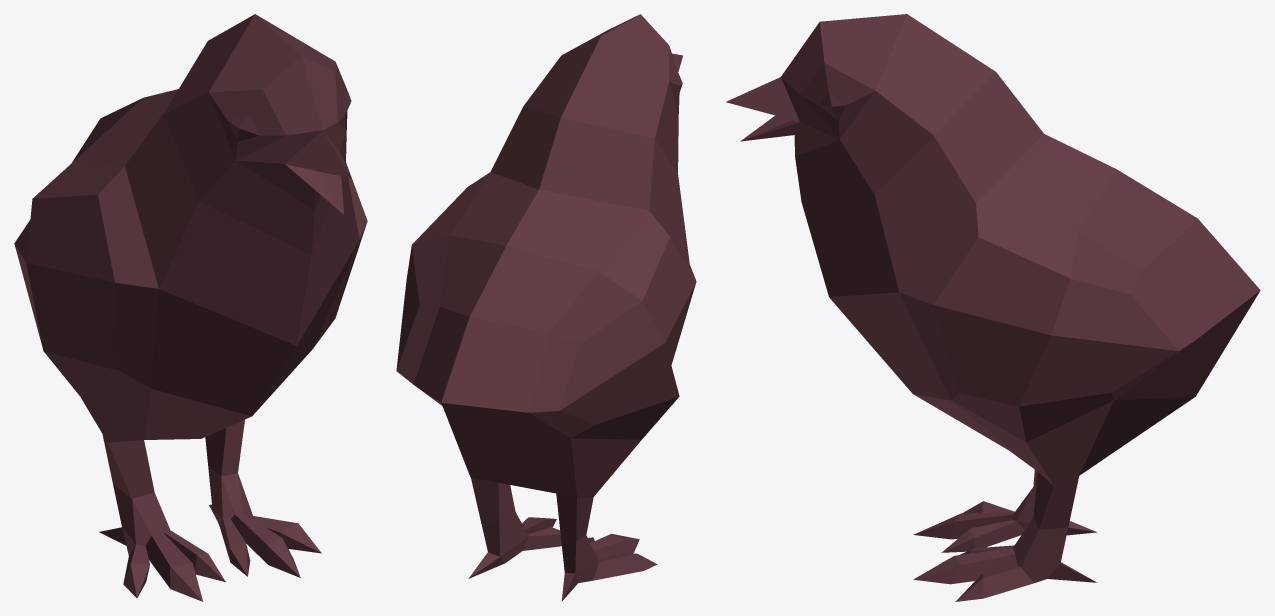
Rendered from chick.fbx.
The picture shows the model from 3 angles, left to right: view 1: azimuth 30°, elevation 25°; view 2: azimuth 150°, elevation 25°; view 3: azimuth 270°, elevation 25°; orthographic projection. The views are drawn at different scales.
Parts seen in each view (by area): view 1: chick; view 2: chick; view 3: chick.
Part boxes in pixels (left/top/right/bottom): chick: left=14, top=14, right=367, bottom=601; chick: left=396, top=14, right=696, bottom=601; chick: left=726, top=14, right=1260, bottom=601.
Bounding box in the file's own units: 0.0529 × 0.0963 × 0.0857.
